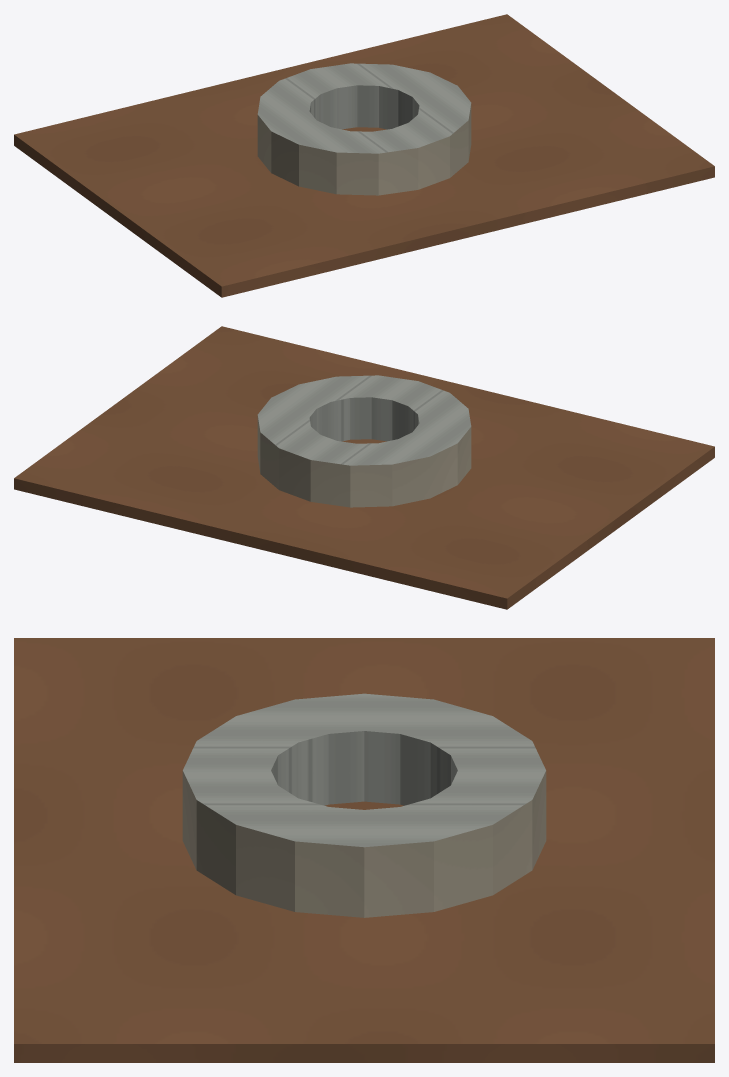
3 renders of one model, top to bottom at view 1: azimuth 30°, elevation 25°; view 2: azimuth 150°, elevation 25°; view 3: azimuth 270°, elevation 25°, orthographic. The views are drawn at different scales.
Parts seen in each view (by area): view 1: funafuti; view 2: funafuti; view 3: funafuti.
Part boxes in pixels (<box>): funafuti: <box>14,14,714,297</box>; funafuti: <box>14,326,714,609</box>; funafuti: <box>14,638,714,1062</box>.
Size of the model in its own units: 3.7 by 0.3801 by 2.7.
Materials: 1 (1 with a texture image).
